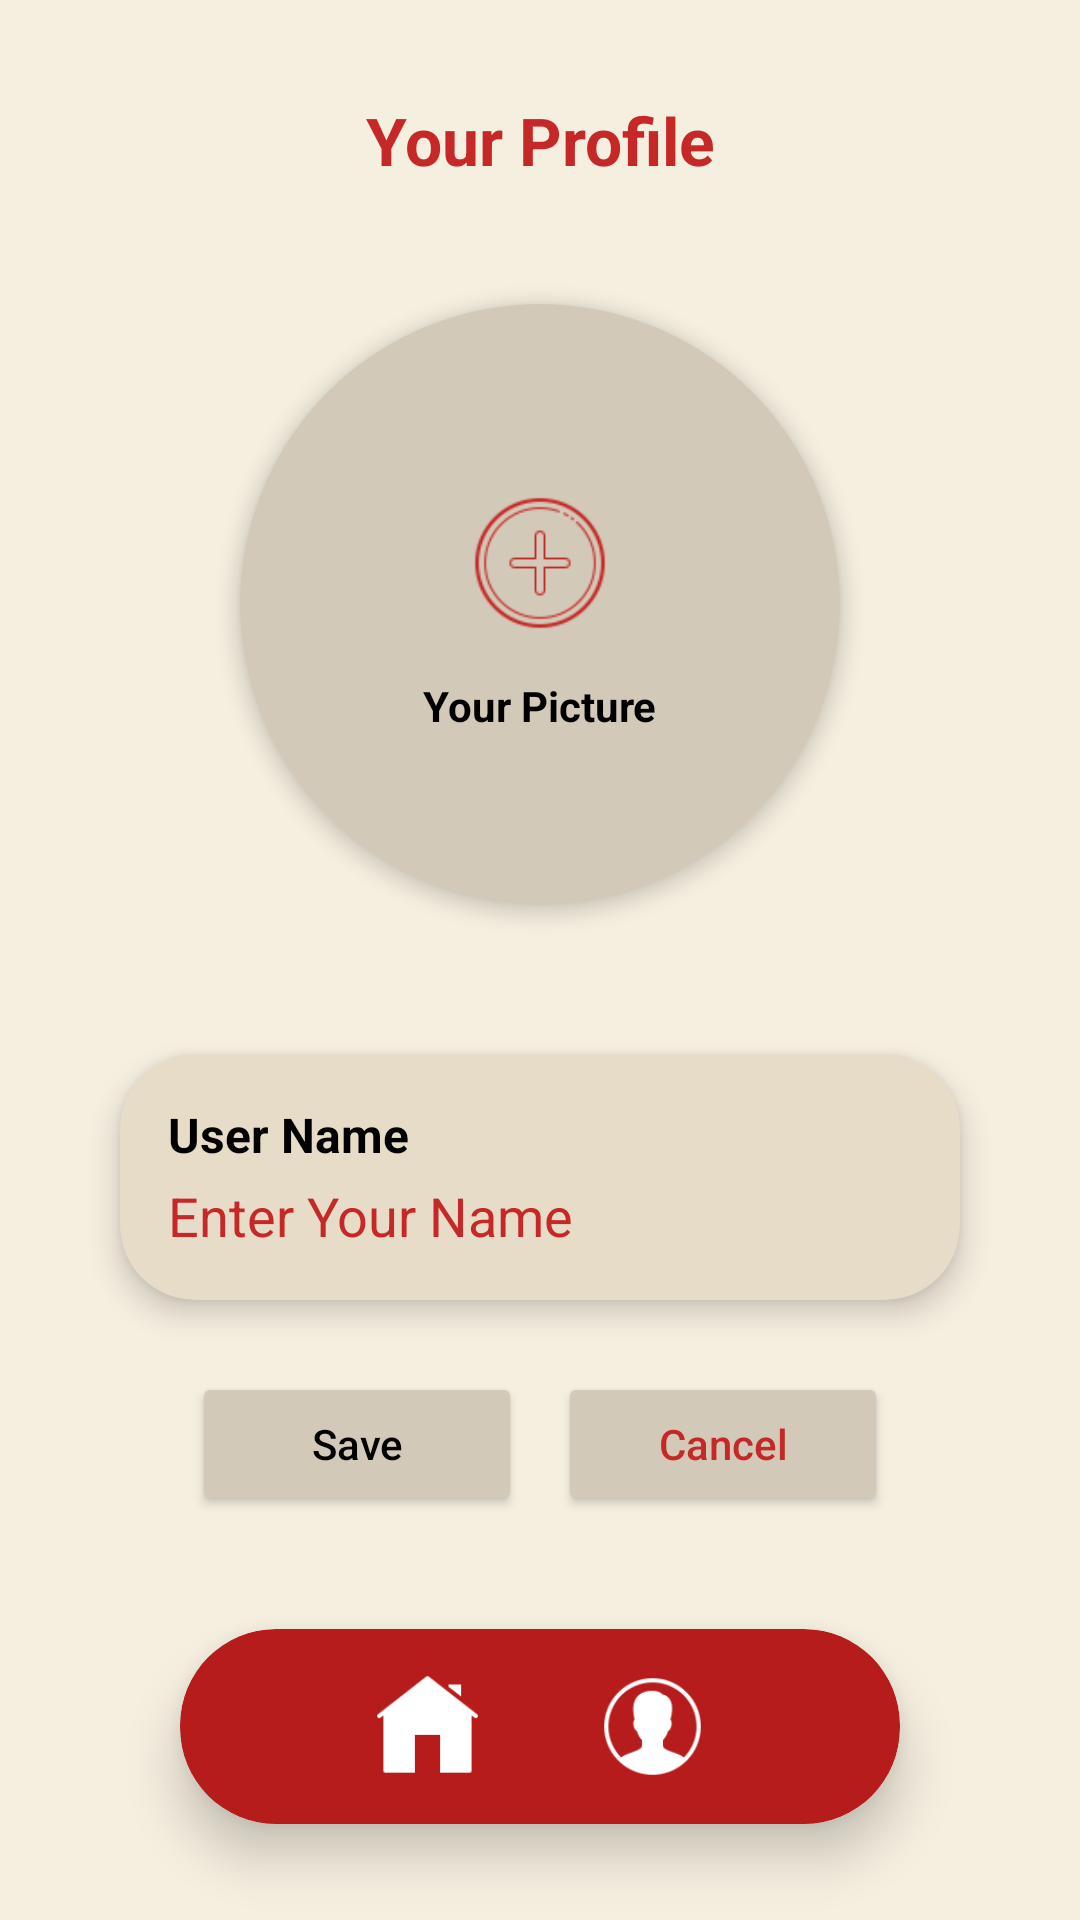

Named icons in this screenshot (1080*1920) and their centers, [x,y]:
add: [540,563]
home: [427,1724]
user: [652,1726]
